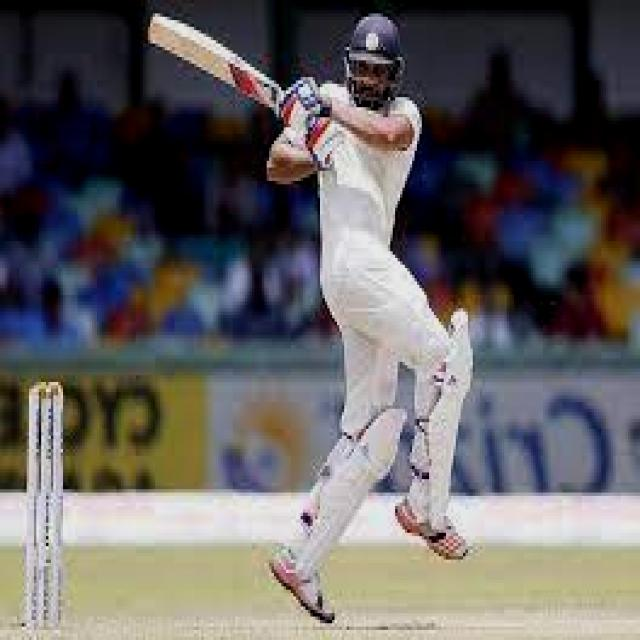toe: (146, 0, 166, 53)
